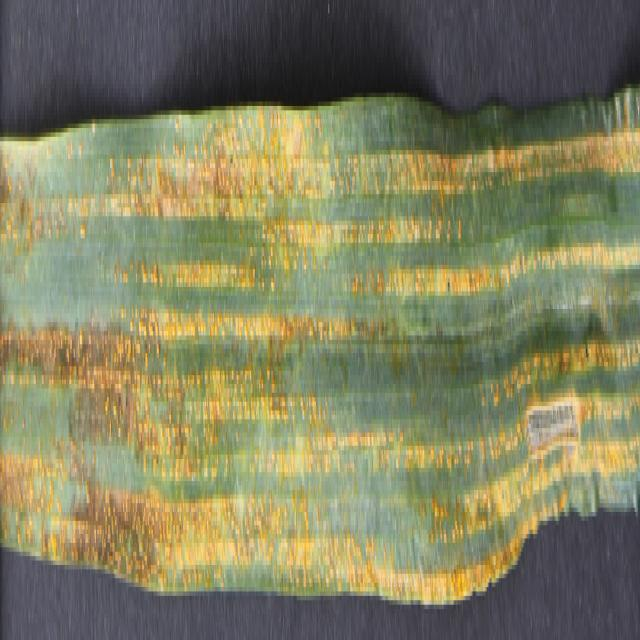leaf rust: (0, 79, 640, 609)
